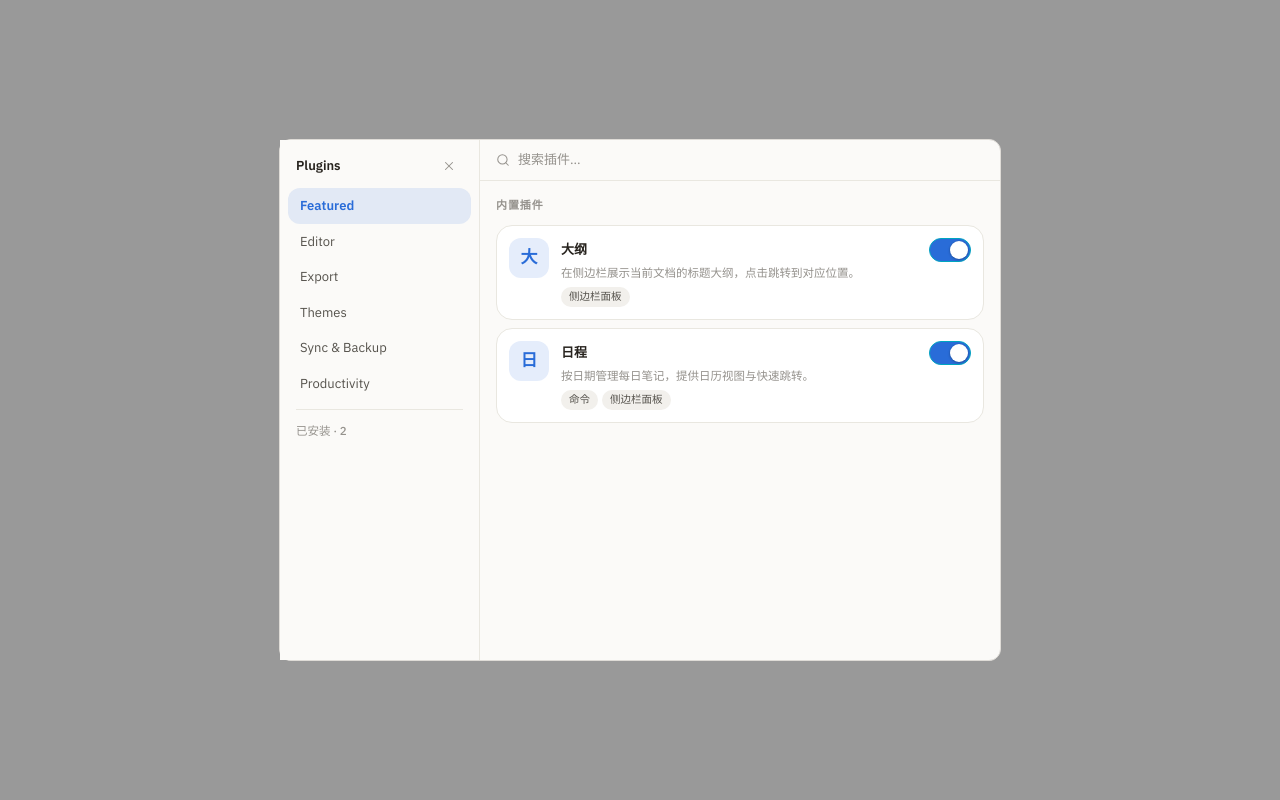
PluginMarket › filters the list by search query (name or description)
Step 1. Type "日历" into the field with placeholder "搜索插件..." → coordinates (751, 160), box [518,150,984,170]
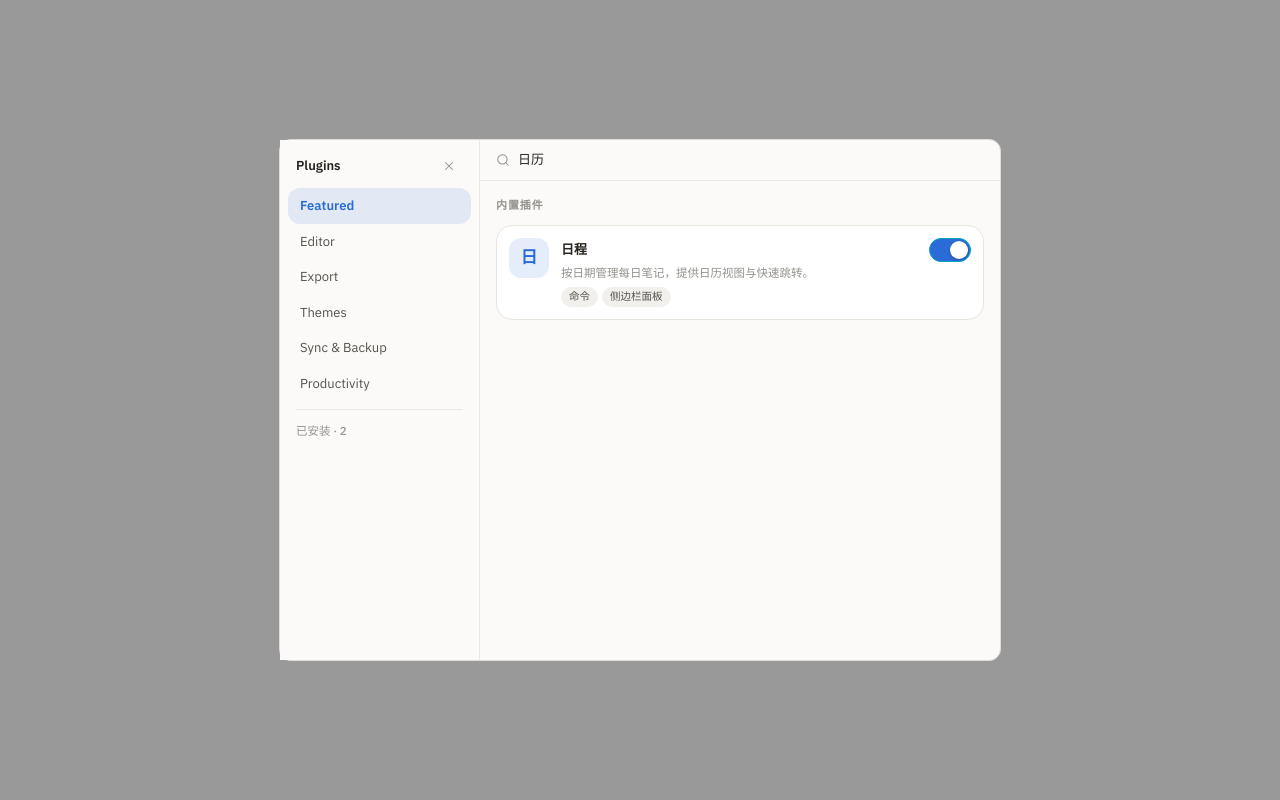
Expected: the text "日程" is shown, [561,240,587,260]
Now the text "大纲" is gone
